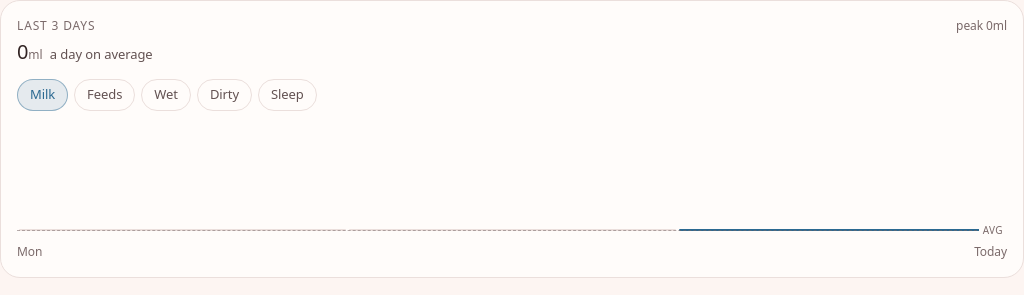
Test: today says it is not over yet
The width and height of the screenshot is (1024, 295).
Click the button "Sleep" at (287, 95), box [258, 79, 317, 111]
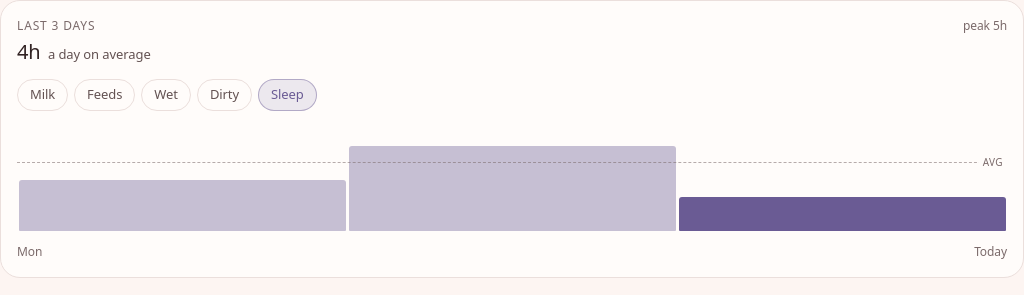
Click the button named "Oct 14" at (842, 214), box [677, 133, 1007, 231]
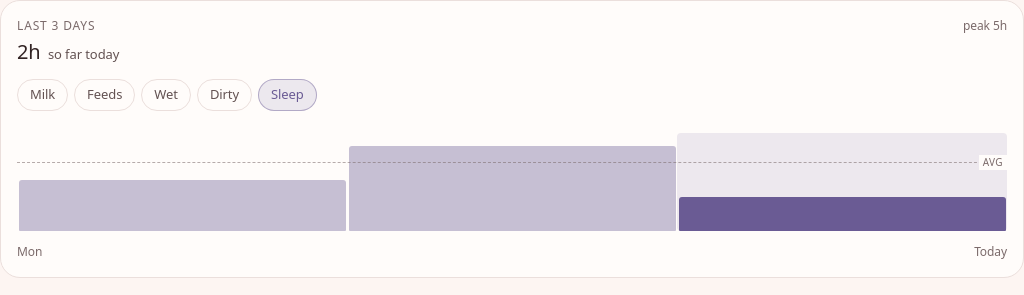
Check: the element with class "trend-average" shows "2h", box [17, 38, 41, 65]
Check: the element with class "trend-average" shows "so far today", box [45, 45, 119, 63]
